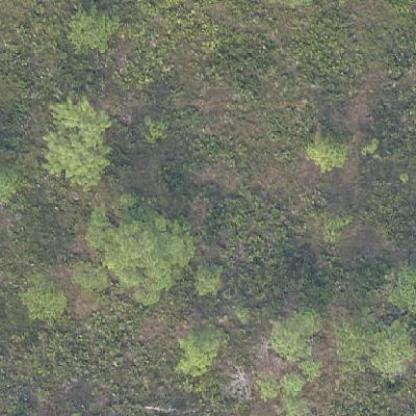tree-top: (80, 193, 197, 306), (40, 93, 110, 194), (168, 319, 233, 379), (263, 302, 328, 360), (364, 322, 415, 380), (64, 6, 119, 55), (18, 268, 64, 322), (307, 127, 349, 171), (383, 265, 415, 313), (190, 260, 224, 298)
